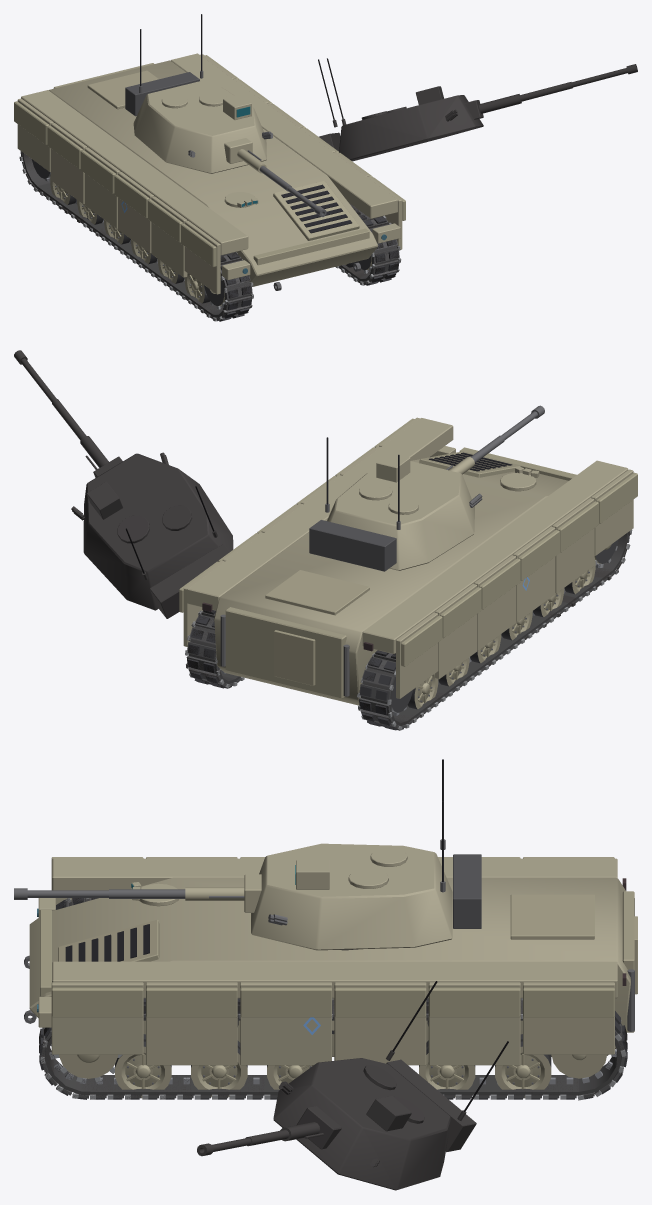
The model's file is ifv__k21_korean_legacy.glb.
The picture shows the model from 3 angles, top to bottom: view 1: azimuth 30°, elevation 25°; view 2: azimuth 150°, elevation 25°; view 3: azimuth 270°, elevation 25°; orthographic projection. The views are drawn at different scales.
Visible parts, largest first — view 1: Hull_Mesh, Turret_Mesh, Wreck, Track_L_Mesh, Track_R_Mesh, Gun_Mesh; view 2: Hull_Mesh, Wreck, Turret_Mesh, Track_L_Mesh, Track_R_Mesh, Gun_Mesh, Wheel_L0_Mesh; view 3: Hull_Mesh, Wreck, Turret_Mesh, Track_R_Mesh, Gun_Mesh, Wheel_R0_Mesh, Wheel_R5_Mesh, Wheel_R4_Mesh, Wheel_R1_Mesh, Sprocket_R_Mesh, Idler_R_Mesh, Wheel_R3_Mesh.
Part boxes in pixels (left/top/right/bottom): Hull_Mesh: left=14, top=53, right=405, bottom=294; Turret_Mesh: left=125, top=14, right=272, bottom=173; Wreck: left=19, top=58, right=637, bottom=321; Track_L_Mesh: left=19, top=151, right=253, bottom=321; Track_R_Mesh: left=336, top=204, right=401, bottom=285; Gun_Mesh: left=224, top=138, right=326, bottom=216; Hull_Mesh: left=179, top=417, right=637, bottom=705; Wreck: left=14, top=350, right=630, bottom=729; Turret_Mesh: left=309, top=437, right=482, bottom=571; Track_L_Mesh: left=357, top=529, right=632, bottom=730; Track_R_Mesh: left=185, top=456, right=430, bottom=688; Gun_Mesh: left=446, top=405, right=544, bottom=474; Wheel_L0_Mesh: left=407, top=674, right=438, bottom=709; Hull_Mesh: left=24, top=857, right=637, bottom=1065; Wreck: left=39, top=898, right=627, bottom=1190; Turret_Mesh: left=251, top=759, right=481, bottom=950; Track_R_Mesh: left=39, top=998, right=627, bottom=1100; Gun_Mesh: left=14, top=874, right=261, bottom=912; Wheel_R0_Mesh: left=495, top=1034, right=551, bottom=1097; Wheel_R5_Mesh: left=115, top=1034, right=171, bottom=1098; Wheel_R4_Mesh: left=191, top=1040, right=247, bottom=1097; Wheel_R1_Mesh: left=419, top=1040, right=475, bottom=1097; Sprocket_R_Mesh: left=53, top=1054, right=122, bottom=1082; Idler_R_Mesh: left=551, top=1054, right=606, bottom=1078; Wheel_R3_Mesh: left=267, top=1065, right=313, bottom=1089.
Size of what is drawn, in the model's own units: 9.25 by 3.41 by 7.39.
